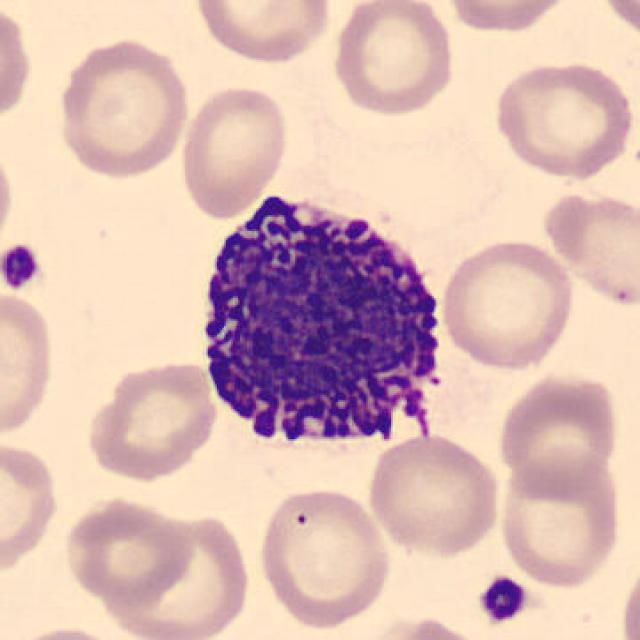Basophil: (182, 180, 468, 474)
Platelets: (476, 573, 532, 624), (0, 242, 46, 292)
RBC: (252, 483, 394, 631), (53, 33, 192, 180), (105, 508, 256, 640), (437, 235, 578, 372), (487, 56, 637, 182), (494, 448, 624, 592), (364, 430, 505, 559), (82, 358, 220, 483), (494, 369, 622, 497), (176, 81, 292, 220), (61, 494, 198, 606), (329, 0, 459, 118), (538, 185, 640, 312), (188, 0, 336, 65), (0, 286, 59, 442), (0, 436, 62, 580), (441, 0, 576, 35), (0, 2, 36, 130), (352, 613, 494, 640), (592, 0, 640, 46), (0, 138, 18, 259), (5, 624, 132, 640), (617, 552, 640, 640)
